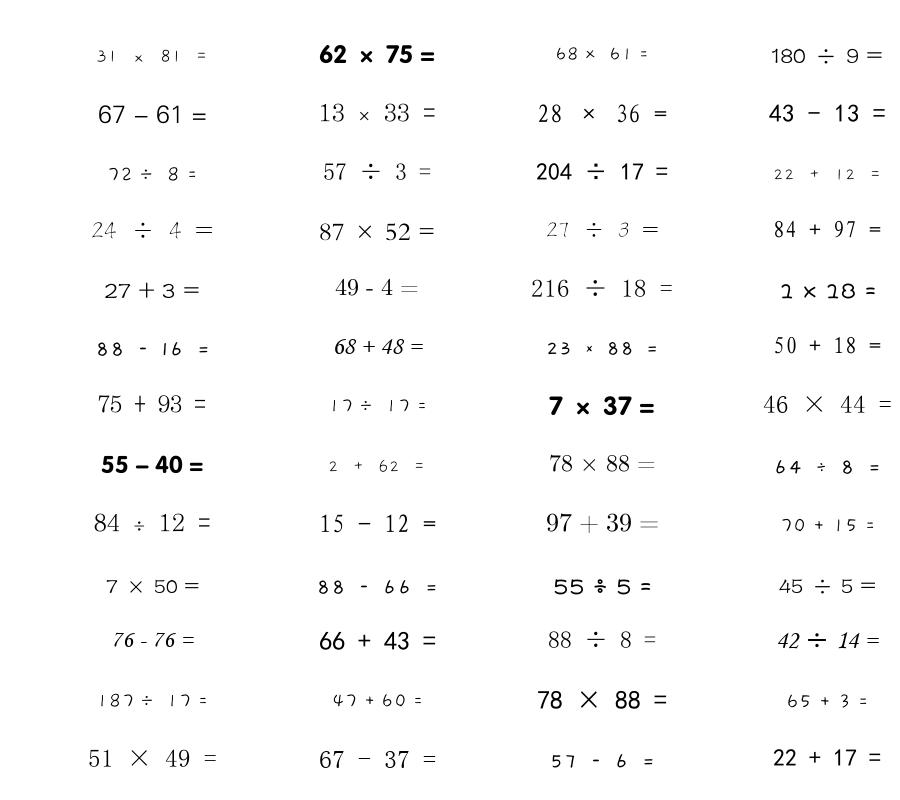MQ: (531, 279, 673, 297), (537, 104, 667, 123), (537, 690, 667, 709), (536, 163, 668, 181), (546, 513, 659, 534), (763, 395, 892, 413), (88, 749, 217, 767), (319, 44, 435, 64), (319, 103, 436, 122), (94, 513, 211, 532), (319, 514, 436, 533), (319, 631, 436, 650), (91, 221, 213, 239), (549, 396, 655, 416), (769, 104, 886, 122), (319, 223, 435, 241), (98, 105, 207, 124), (319, 751, 436, 768), (773, 220, 881, 238), (773, 336, 881, 354), (98, 395, 206, 413), (101, 455, 203, 474), (549, 454, 656, 472), (323, 163, 431, 180), (548, 631, 656, 648), (773, 749, 881, 766), (546, 222, 659, 238), (771, 48, 883, 64), (776, 632, 879, 649), (316, 580, 438, 594), (96, 693, 208, 708), (104, 282, 200, 299), (95, 342, 210, 356), (553, 579, 652, 595), (96, 49, 208, 63), (779, 283, 876, 299), (335, 278, 419, 296), (773, 460, 881, 474), (549, 754, 655, 768), (546, 342, 659, 355), (332, 338, 423, 354), (779, 579, 876, 594), (780, 518, 875, 533), (328, 399, 427, 413), (328, 459, 426, 473), (107, 167, 197, 182), (555, 47, 649, 61), (773, 169, 882, 181), (106, 579, 199, 593), (332, 694, 423, 708), (111, 632, 194, 647), (786, 694, 868, 709)
